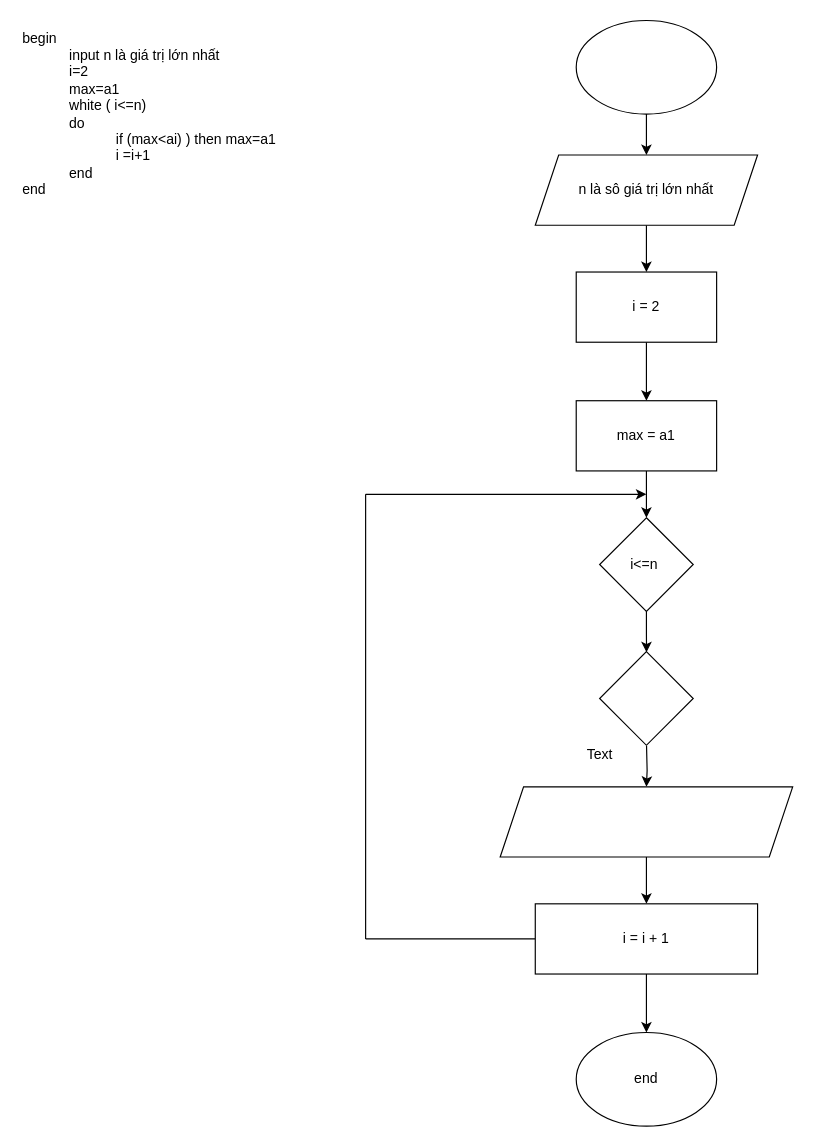
Image size: 813x1147. Some labels were removed from this diagram. Here are the shapes that lost their labels. From the top down, the box of each, then its label:
(575, 19, 717, 114): begin
(598, 651, 693, 745): max<ai
(499, 786, 793, 857): max=ai
